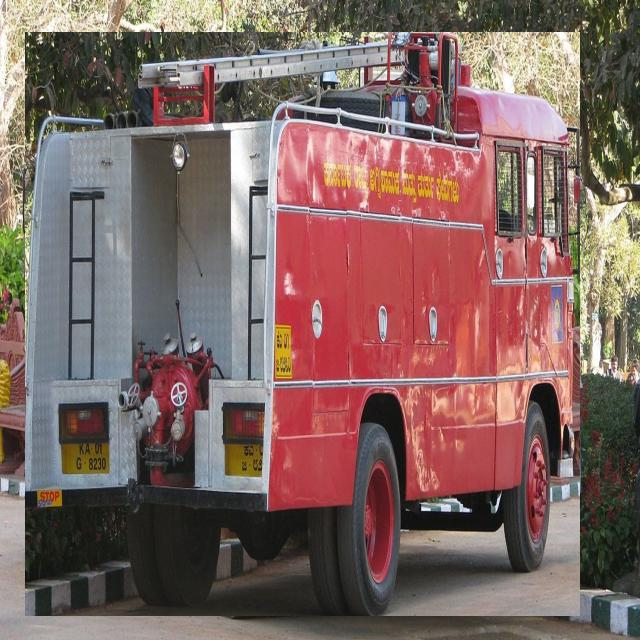emergency: (25, 33, 580, 616)
